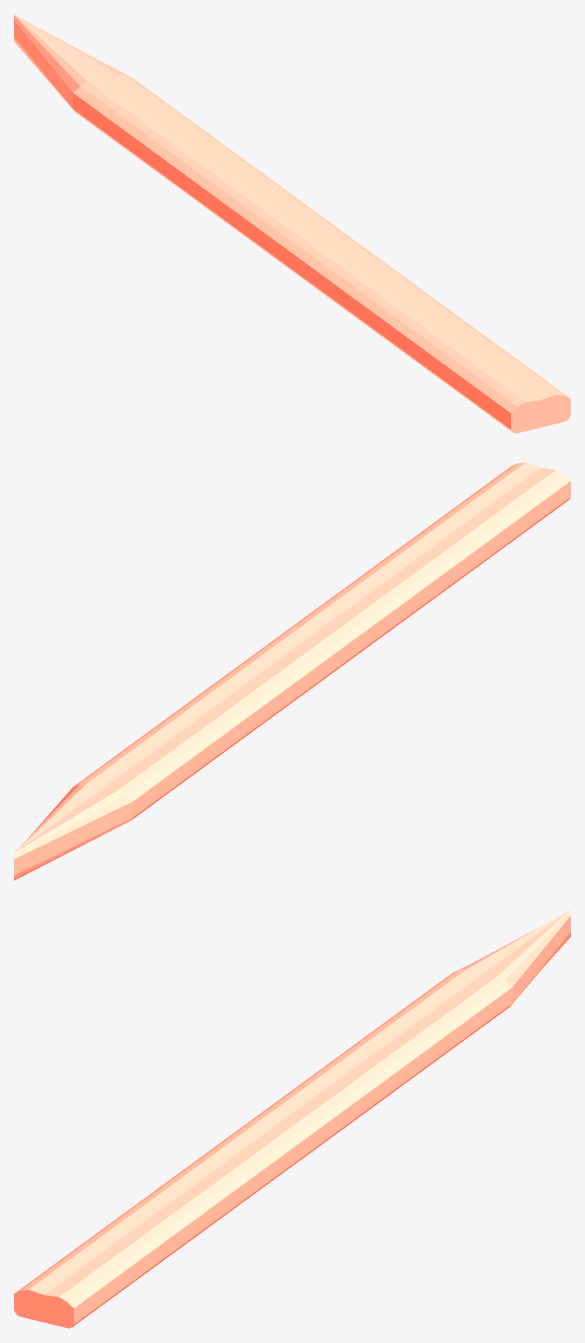
Rendered from blade.glb.
The picture shows the model from 3 angles, top to bottom: view 1: azimuth 30°, elevation 25°; view 2: azimuth 150°, elevation 25°; view 3: azimuth 330°, elevation 25°; orthographic projection.
Visible parts, largest first — view 1: Cylinder.002; view 2: Cylinder.002; view 3: Cylinder.002.
Boxes of the visible parts, box(x1,y1,x2,y2) form: Cylinder.002: box(14, 14, 570, 433); Cylinder.002: box(14, 462, 570, 880); Cylinder.002: box(14, 909, 570, 1328).
Bounding box in the file's own units: 0.0925 × 0.0428 × 1.41.
